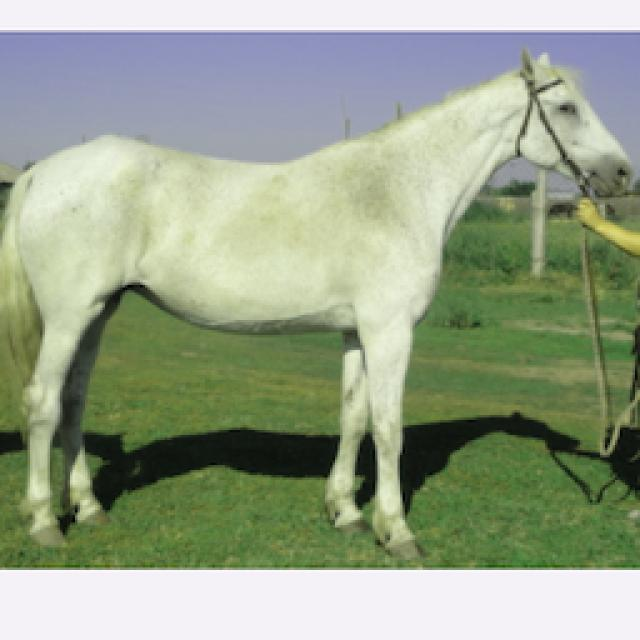Horse: (2, 45, 640, 558)
